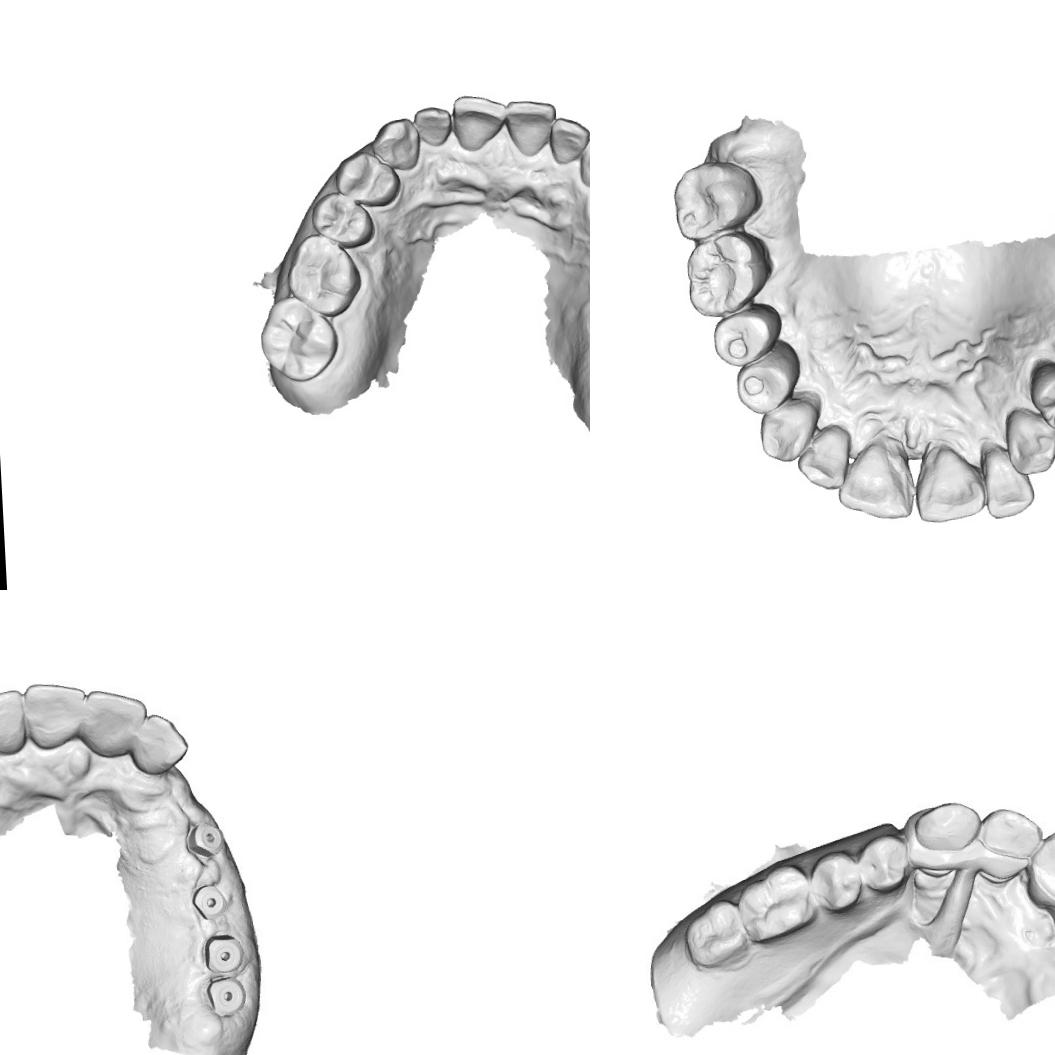canine: (909, 794, 980, 858), (755, 398, 818, 464), (999, 408, 1055, 476), (370, 116, 421, 172), (577, 132, 590, 189)
implant: (205, 931, 246, 979), (182, 815, 225, 857), (191, 880, 230, 924), (206, 978, 244, 1016)
incisor: (832, 441, 914, 526), (907, 440, 988, 525), (17, 674, 92, 753), (83, 685, 147, 757), (976, 452, 1036, 522), (793, 422, 850, 494), (130, 712, 189, 778), (981, 800, 1038, 868), (450, 92, 509, 154), (503, 96, 558, 156), (547, 114, 590, 164), (0, 688, 27, 762), (410, 104, 453, 148), (1035, 825, 1055, 898)
molar: (669, 156, 764, 244), (680, 232, 777, 318), (257, 291, 340, 384), (283, 231, 362, 320), (738, 859, 818, 936), (687, 901, 748, 971)
premolar: (331, 148, 402, 210), (730, 356, 800, 417), (710, 307, 777, 369), (308, 190, 374, 250), (856, 832, 914, 898), (812, 844, 860, 913), (1026, 358, 1055, 437)
